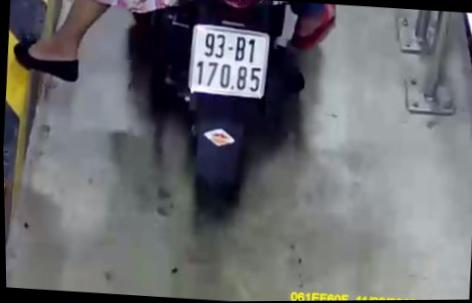LP: (186, 22, 271, 98)
